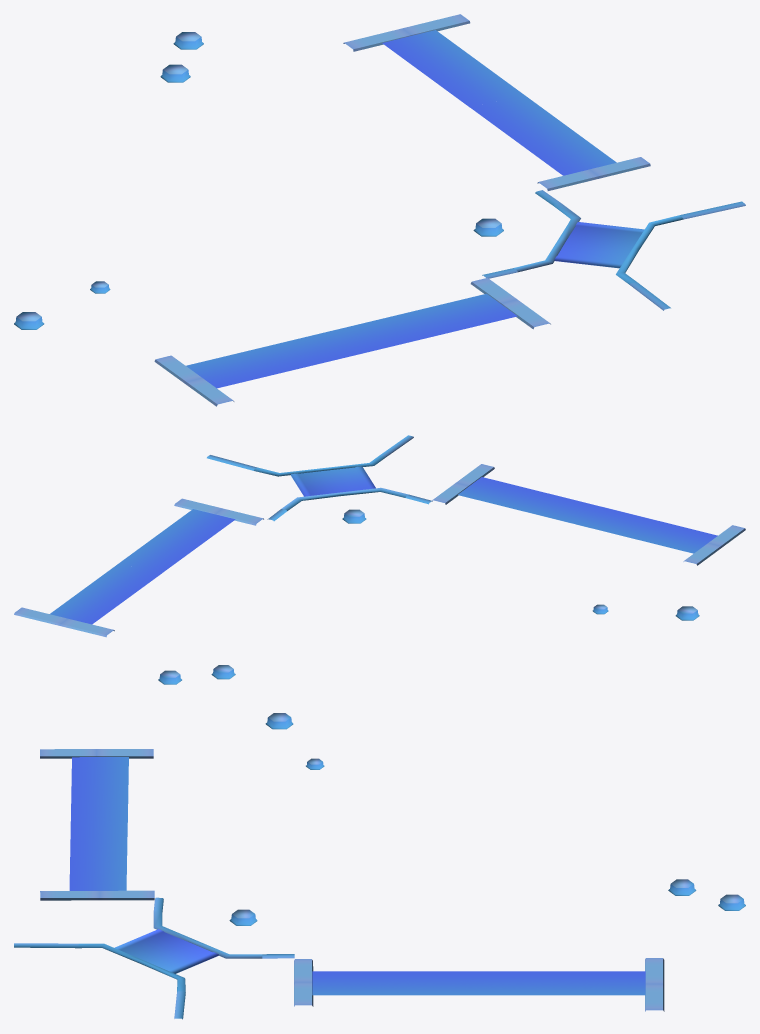
Rendered from Area_06_6.FBX.
The picture shows the model from 3 angles, top to bottom: view 1: azimuth 30°, elevation 25°; view 2: azimuth 150°, elevation 25°; view 3: azimuth 270°, elevation 25°; orthographic projection. The views are drawn at different scales.
Visible parts, largest first — view 1: Area_06_6; view 2: Area_06_6; view 3: Area_06_6.
Part boxes in pixels (box(x1,y1,x2,y2)): Area_06_6: box(14, 14, 745, 406); Area_06_6: box(14, 435, 745, 684); Area_06_6: box(14, 713, 745, 1019).
Bounding box in the file's own units: 9728 × 150 × 10019.
